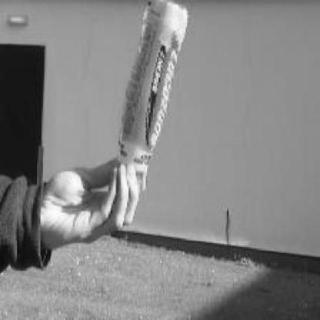other: (91, 1, 197, 187)
